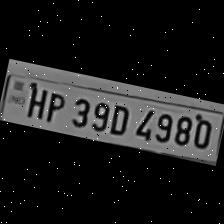0: (188, 113, 214, 152)
3: (64, 92, 93, 130)
4: (128, 102, 157, 141)
8: (170, 110, 194, 148)
9: (86, 96, 112, 133), (149, 107, 175, 144)
D: (105, 99, 133, 138)
H: (22, 81, 50, 121)
P: (40, 88, 68, 124)
